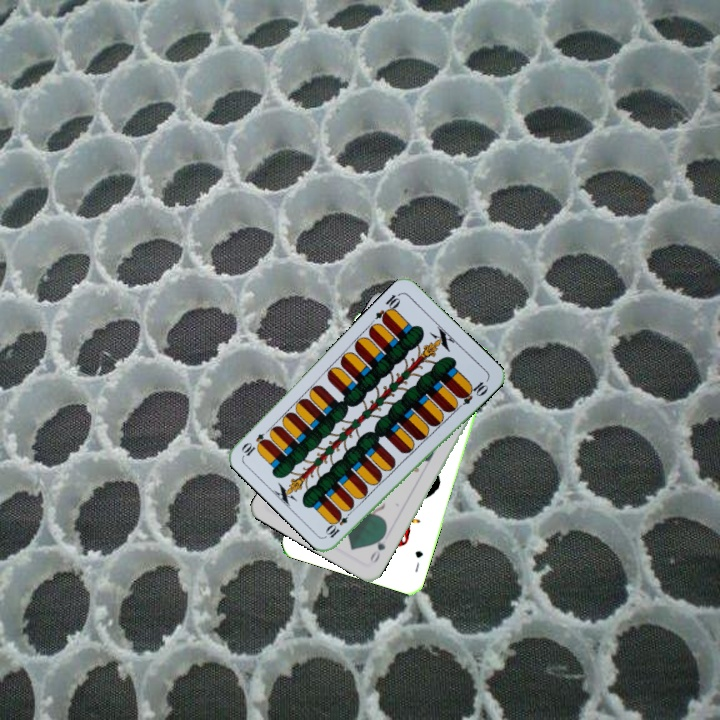E10: (322, 505, 355, 541), (371, 289, 403, 325)
GO: (366, 528, 389, 565)
GU: (411, 546, 426, 575)
